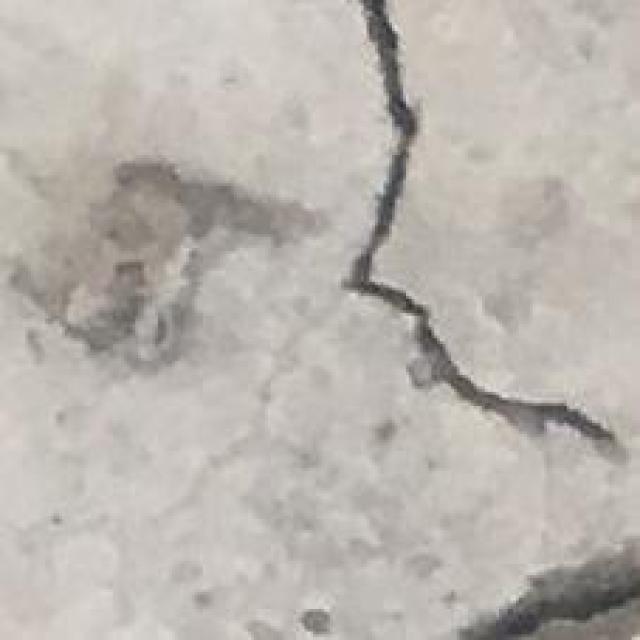Crack: (338, 3, 629, 448)
